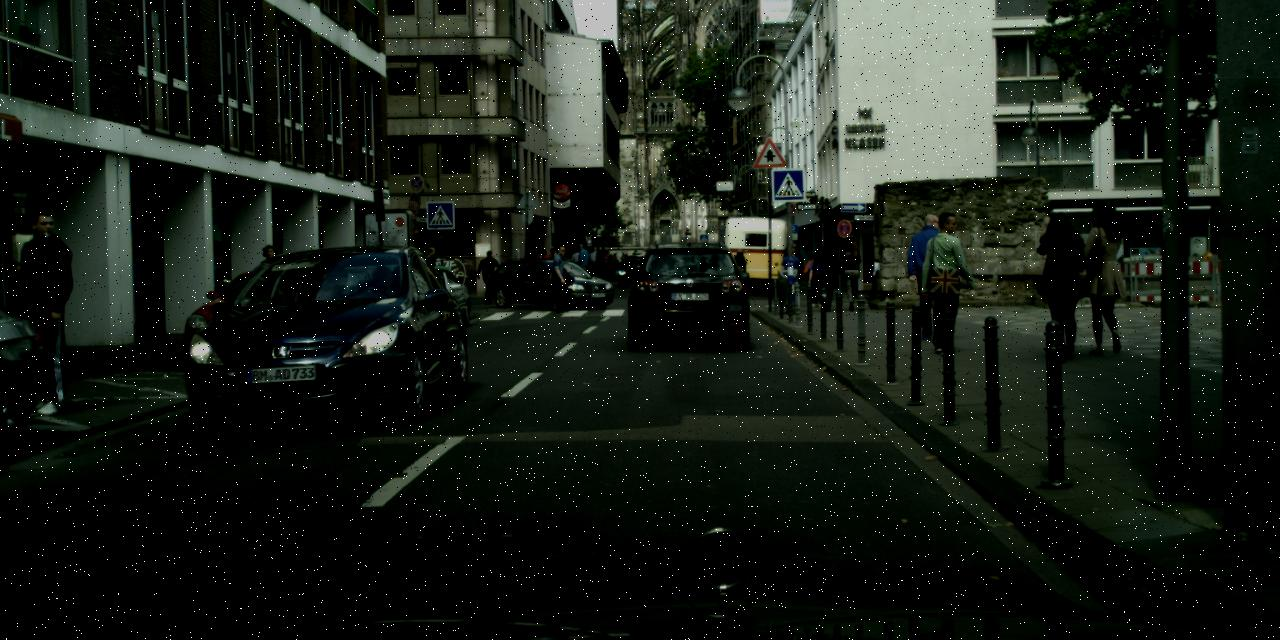ped: (5, 209, 87, 412), (1075, 205, 1134, 351), (1034, 211, 1092, 356), (916, 211, 973, 352), (906, 212, 957, 338), (254, 245, 288, 329), (811, 236, 841, 310), (568, 240, 625, 278), (546, 243, 574, 313), (838, 240, 866, 309), (420, 247, 442, 303), (478, 250, 500, 302), (806, 253, 826, 306), (730, 250, 748, 292), (534, 247, 557, 259)
